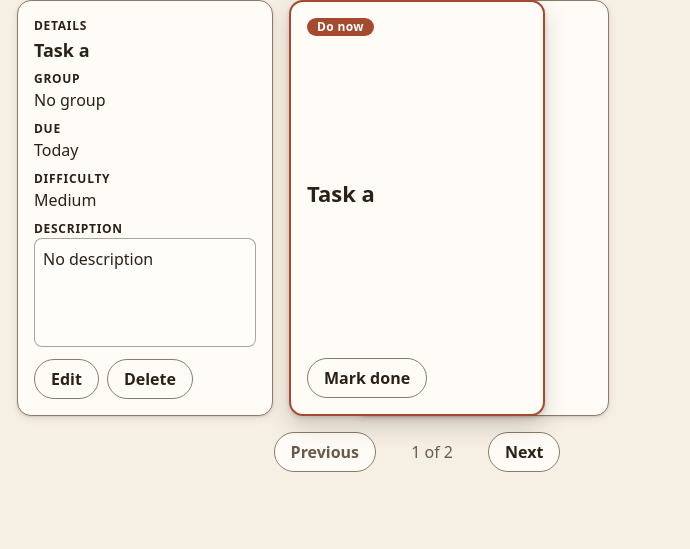
it: when the request does not work out › shows that a task is gone as a notice, not as an error, and it stays when the card goes
Click the button "Mark done" at (367, 378), box [307,358,427,398]
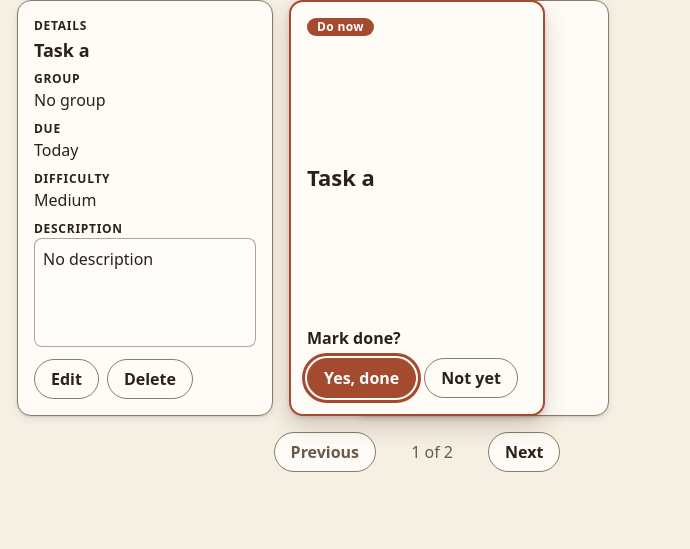
Click the button "Yes, done" at (362, 378), box [307,358,416,398]
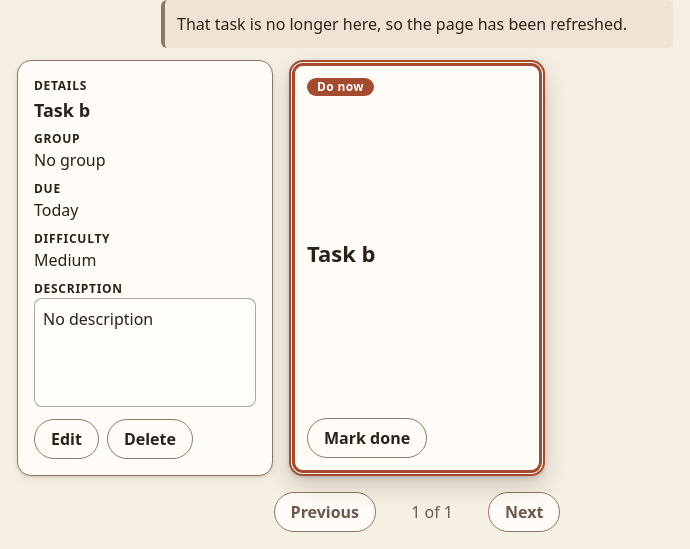
Expected: the message "That task is no longer here, so the page has been refreshed." is shown, [161,0,673,48]
